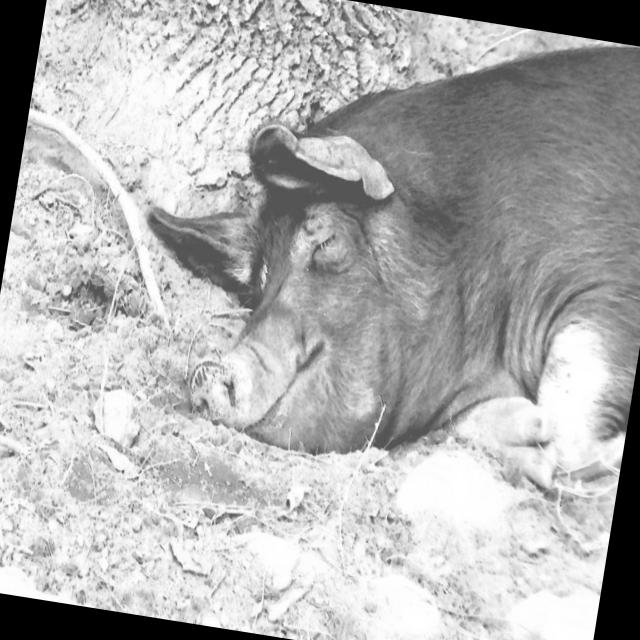pig: (151, 48, 640, 485)
